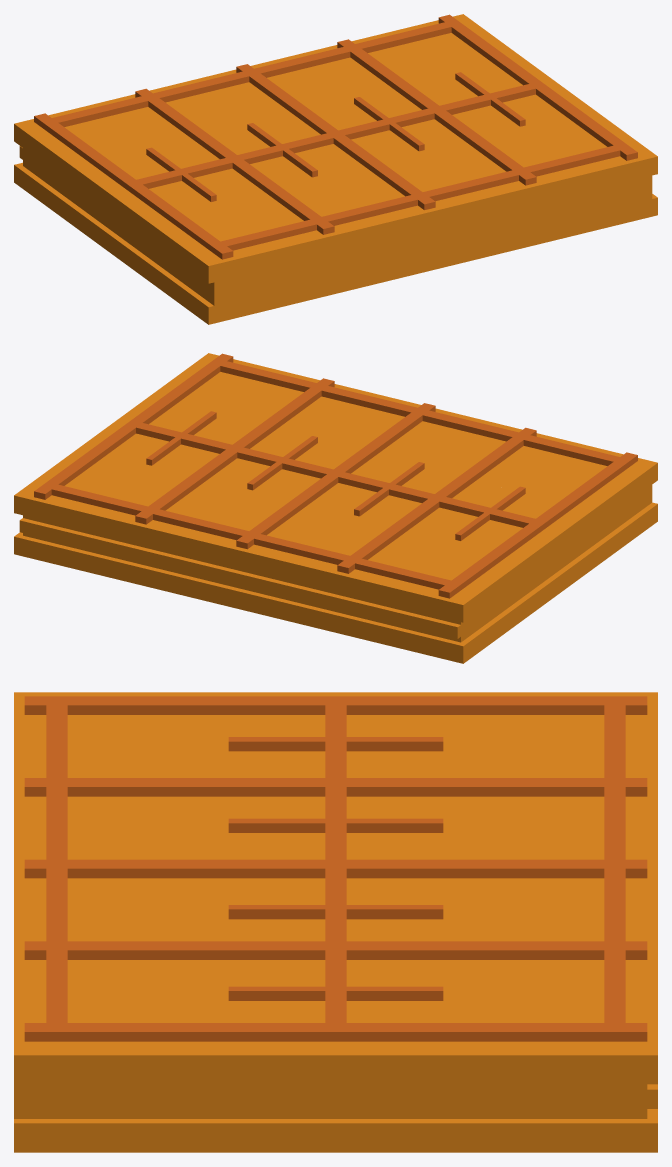
Rendered from uttarasanga.glb.
The picture shows the model from 3 angles, top to bottom: view 1: azimuth 30°, elevation 25°; view 2: azimuth 150°, elevation 25°; view 3: azimuth 270°, elevation 25°; orthographic projection. The views are drawn at different scales.
Visible parts, largest first — view 1: uttarasanga:compound; view 2: uttarasanga:compound; view 3: uttarasanga:compound.
Part boxes in pixels (x1,y1,x2,y2): uttarasanga:compound: [14, 14, 657, 324]; uttarasanga:compound: [14, 353, 657, 663]; uttarasanga:compound: [14, 692, 657, 1152].
Bounding box in the file's own units: 0.32 × 0.044 × 0.24.
